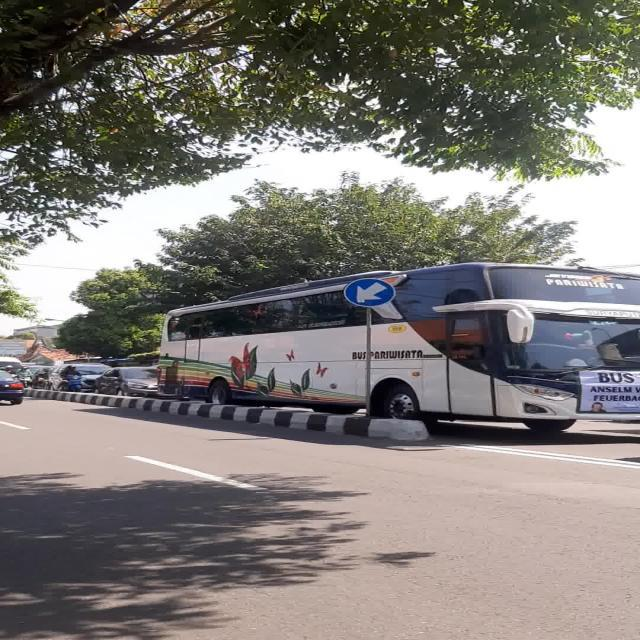Lajur Kiri: (344, 278, 396, 307)
